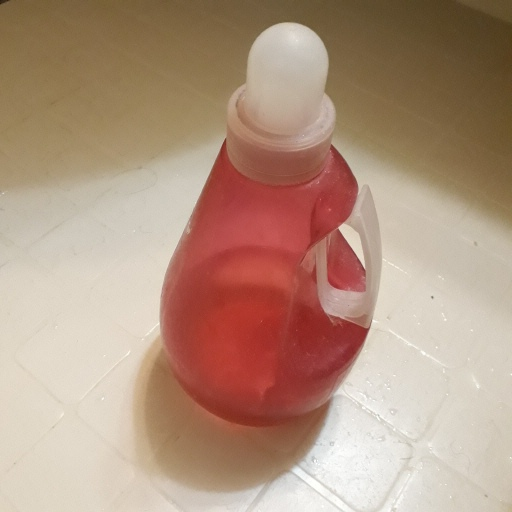Plastic_1: (161, 22, 387, 430)
